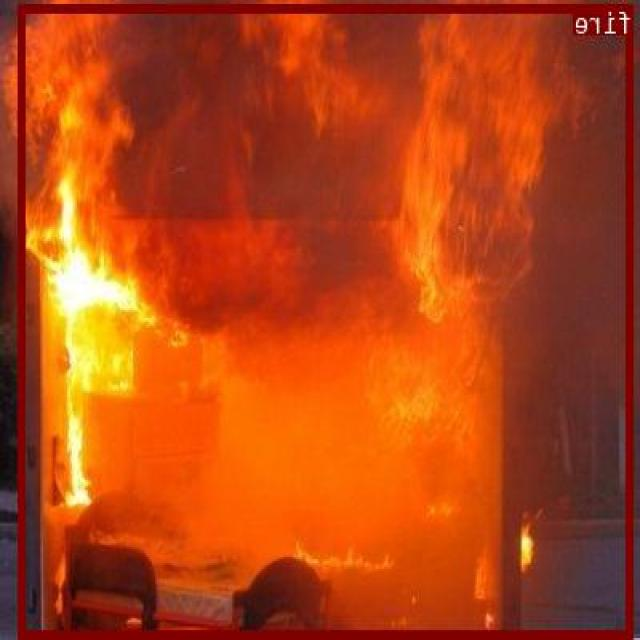fire: (21, 2, 634, 636)
